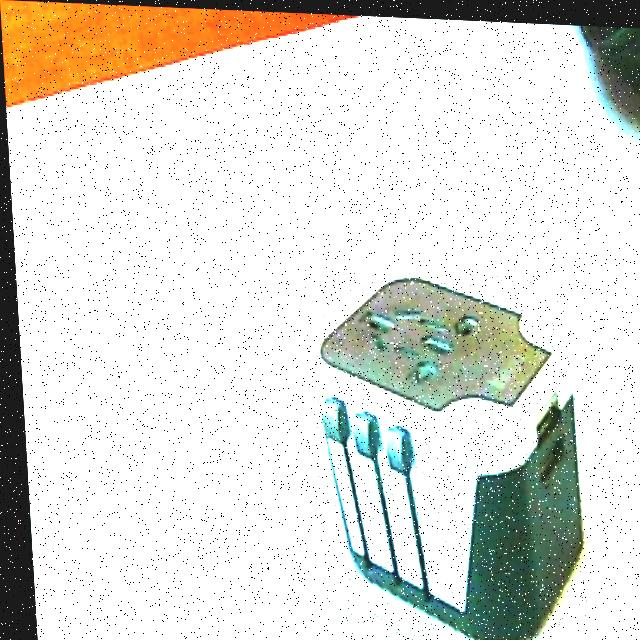adapter: (300, 262, 583, 640)
